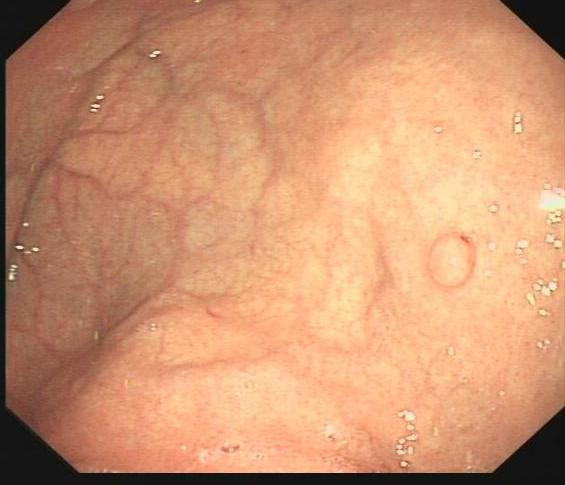Polyp: (424, 230, 475, 289)
